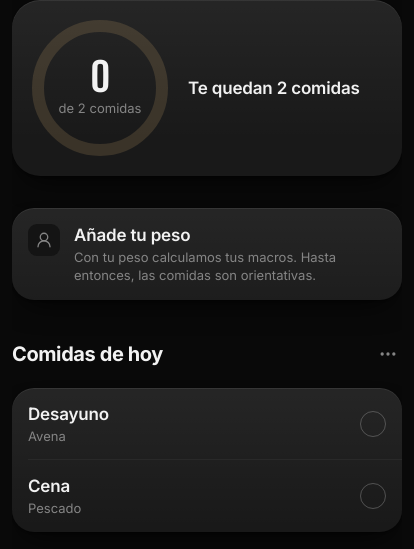
Test case: day summary › fills the ring with the meals checked today and says how many are left
Check: the text "Te quedan 2 comidas" is shown, box [188, 77, 382, 99]
Click the button "Desayuno Avena". click: click(207, 424)
box: [12, 388, 402, 460]
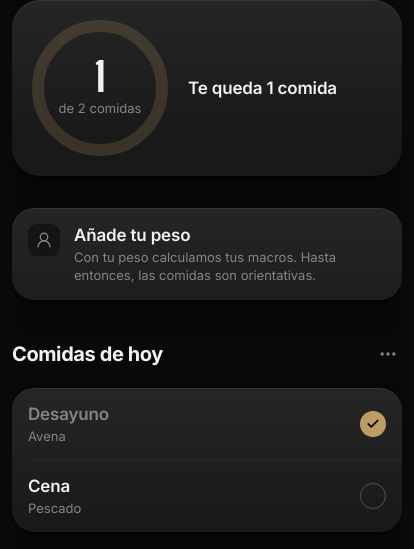
Check: the text "Te queda 1 comida" is shown, box [188, 78, 337, 98]
Click the button "Cena Pescado". click: click(49, 486)
box: [12, 460, 402, 532]
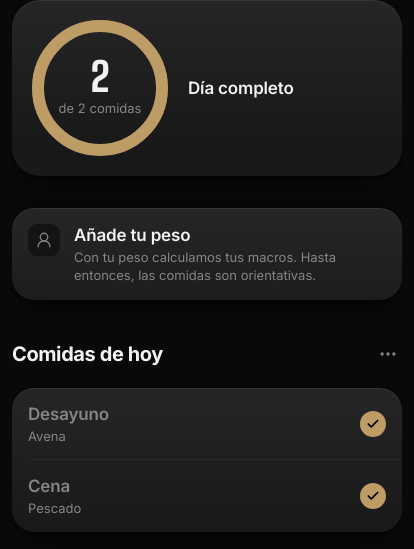
Check: the text "Día completo" is shown, box [188, 78, 294, 98]
